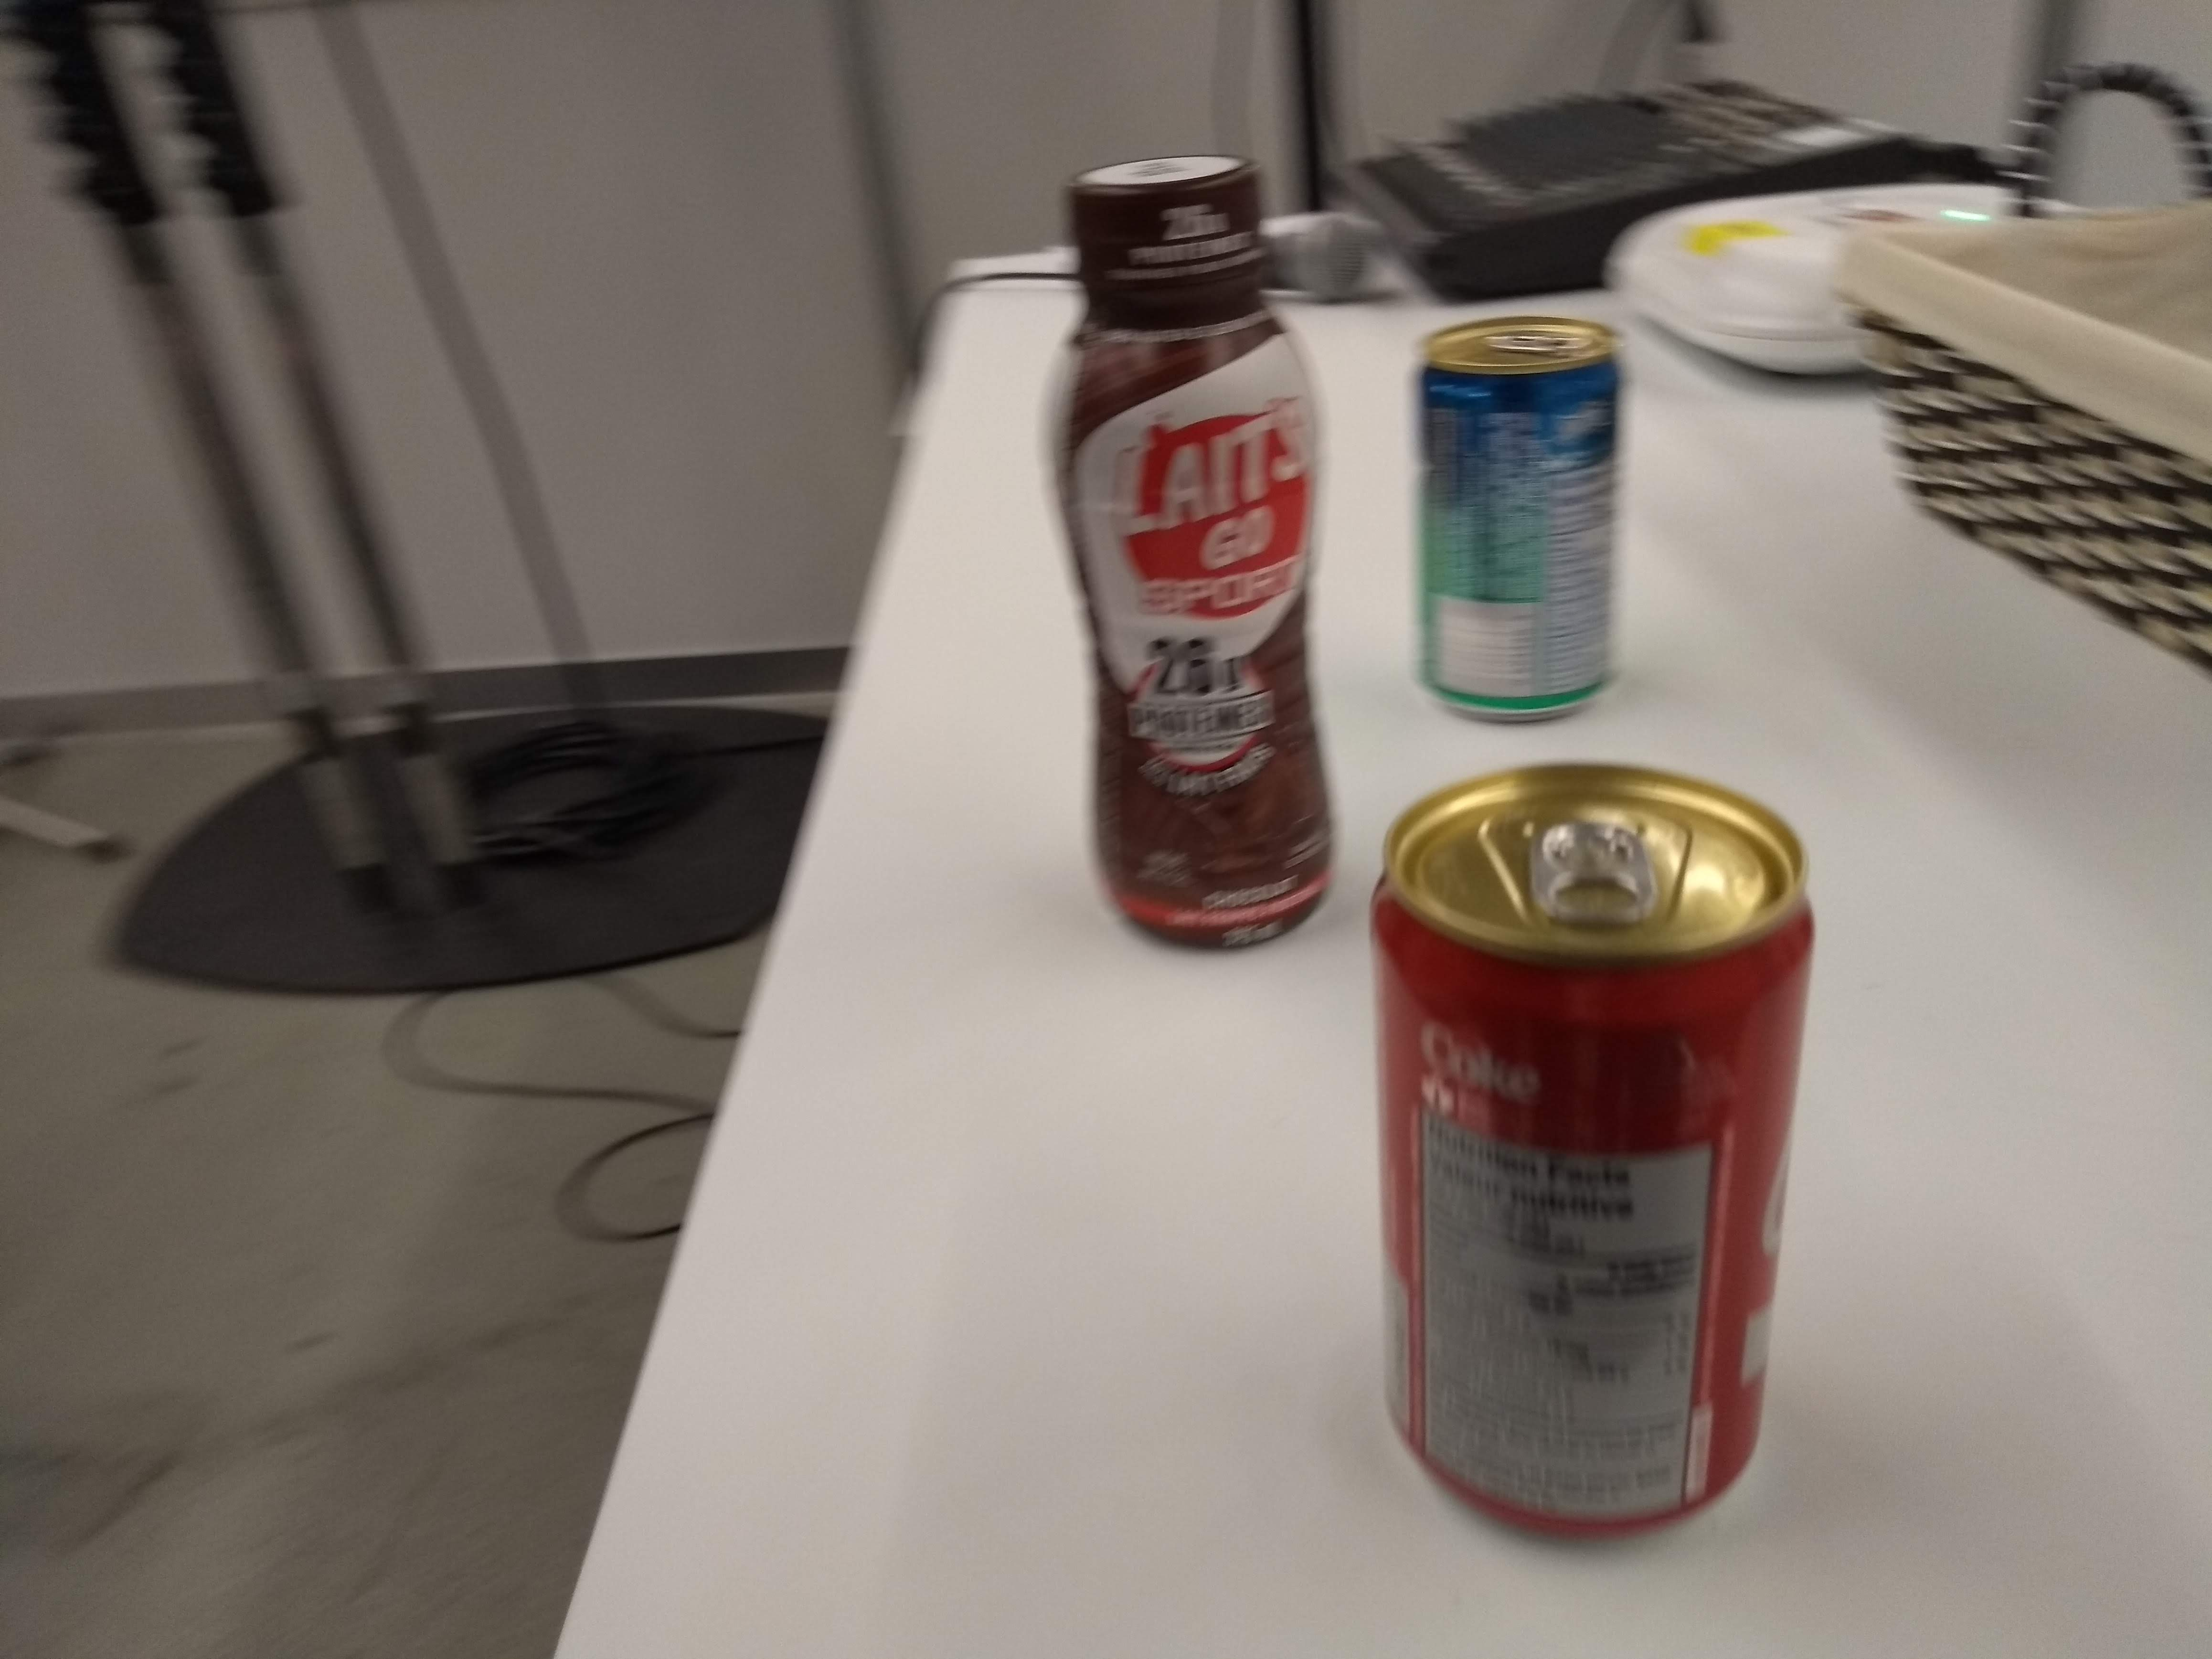chocolate_drink: (1035, 139, 1348, 965)
coke: (1360, 746, 1829, 1563)
sprite: (1397, 305, 1632, 727)
